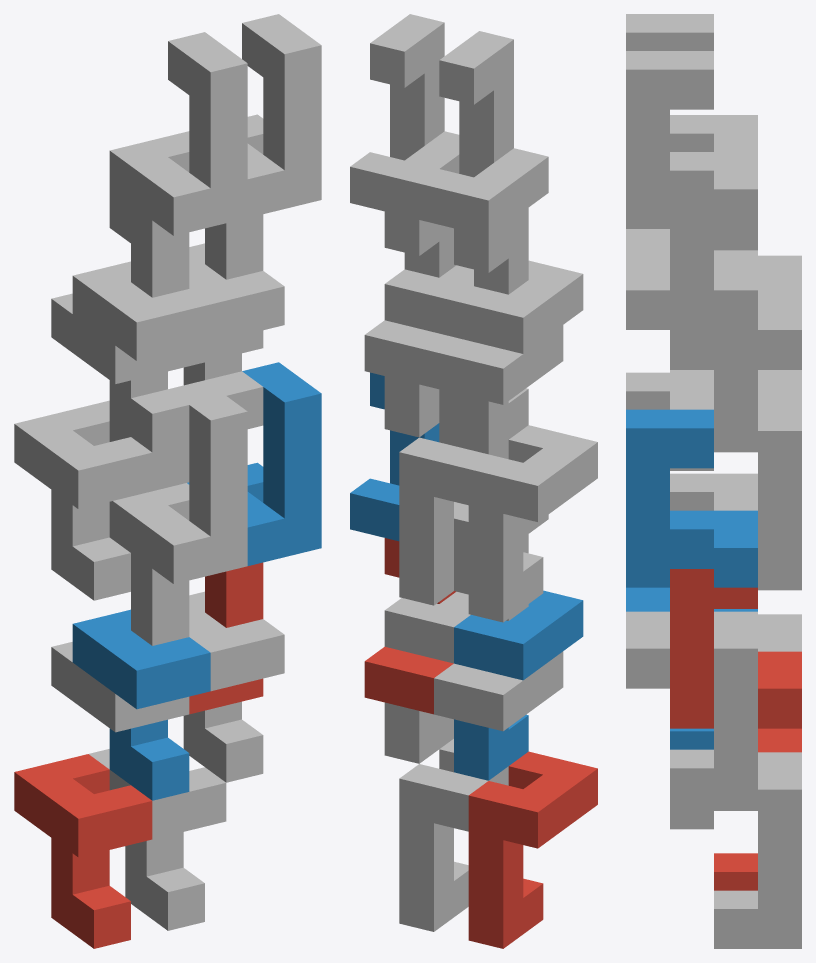
The model's file is tiling.obj.
The picture shows the model from 3 angles, left to right: view 1: azimuth 30°, elevation 25°; view 2: azimuth 150°, elevation 25°; view 3: azimuth 270°, elevation 25°; orthographic projection. The views are drawn at different scales.
Parts seen in each view (by area): view 1: copy_2_domain_4, copy_2_domain_2, copy_1_domain_1, copy_1_domain_3, copy_1_domain_2, copy_1_domain_4, copy_2_domain_8, copy_2_domain_6, copy_1_domain_6, copy_1_domain_5, copy_2_domain_3, copy_2_domain_1 (+4 smaller); view 2: copy_2_domain_4, copy_1_domain_1, copy_1_domain_3, copy_2_domain_8, copy_1_domain_4, copy_1_domain_5, copy_1_domain_2, copy_2_domain_3, copy_1_domain_7, copy_1_domain_6, copy_2_domain_7, copy_1_domain_8 (+4 smaller); view 3: copy_2_domain_6, copy_2_domain_8, copy_1_domain_6, copy_1_domain_8, copy_1_domain_5, copy_2_domain_5, copy_2_domain_7, copy_1_domain_7, copy_2_domain_4, copy_2_domain_2, copy_1_domain_1, copy_1_domain_2 (+4 smaller).
Boxes of the visible parts, box(x1,y1,x2,y2) form: copy_2_domain_4: box(109, 32, 247, 235); copy_2_domain_2: box(109, 380, 247, 583); copy_1_domain_1: box(14, 754, 152, 948); copy_1_domain_3: box(14, 406, 152, 600); copy_1_domain_2: box(72, 609, 210, 800); copy_1_domain_4: box(72, 261, 210, 452); copy_2_domain_8: box(184, 14, 321, 217); copy_2_domain_6: box(187, 362, 321, 565); copy_1_domain_6: box(183, 591, 284, 782); copy_1_domain_5: box(89, 749, 226, 930); copy_2_domain_3: box(51, 189, 189, 383); copy_2_domain_1: box(51, 553, 189, 732); copy_2_domain_4: box(419, 31, 548, 236); copy_1_domain_1: box(468, 751, 597, 948); copy_1_domain_3: box(468, 425, 597, 622); copy_2_domain_8: box(350, 14, 459, 219); copy_1_domain_4: box(454, 260, 583, 454); copy_1_domain_5: box(399, 739, 508, 931); copy_1_domain_2: box(454, 590, 583, 780); copy_2_domain_3: box(434, 208, 563, 404); copy_1_domain_7: box(399, 423, 508, 605); copy_1_domain_6: box(384, 591, 470, 763); copy_2_domain_7: box(364, 211, 455, 387); copy_1_domain_8: box(384, 265, 473, 437); copy_2_domain_6: box(626, 409, 757, 587); copy_2_domain_8: box(626, 51, 757, 228); copy_1_domain_6: box(626, 611, 757, 808); copy_1_domain_8: box(626, 253, 757, 449); copy_1_domain_5: box(670, 752, 801, 948); copy_2_domain_5: box(670, 569, 801, 728); copy_2_domain_7: box(670, 210, 801, 369); copy_1_domain_7: box(670, 394, 801, 590); copy_2_domain_4: box(626, 14, 757, 151); copy_2_domain_2: box(626, 372, 757, 510); copy_1_domain_1: box(714, 728, 801, 890); copy_1_domain_2: box(626, 587, 757, 749).
Bounding box in the file's own units: 6 × 23 × 4.
